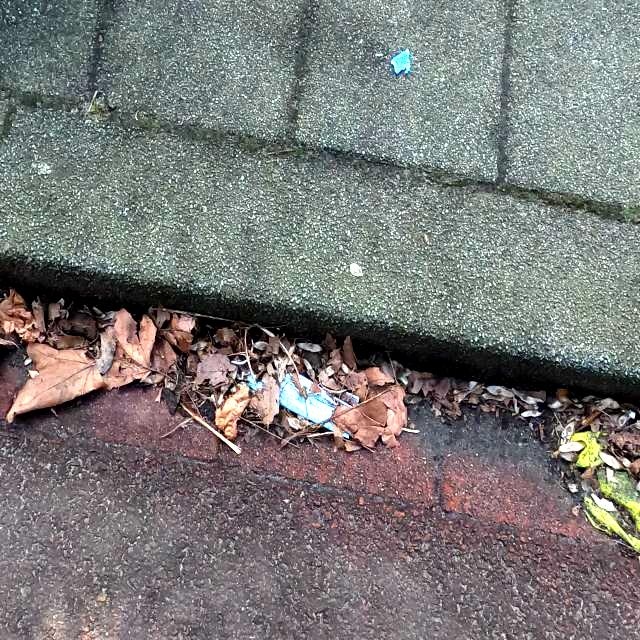Mask: (236, 371, 362, 441)
